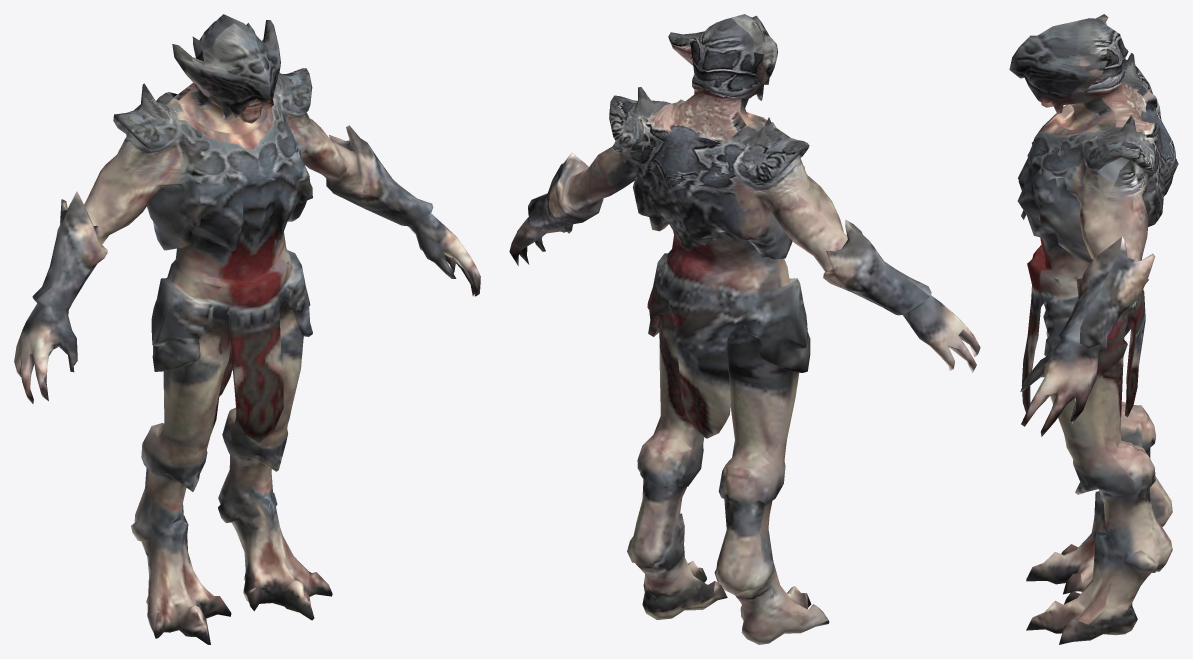
File: bloodknight-overview-v1.glb
3 renders of one model, left to right at view 1: azimuth 30°, elevation 25°; view 2: azimuth 150°, elevation 25°; view 3: azimuth 270°, elevation 25°, orthographic.
Parts seen in each view (by area): view 1: bloodknight; view 2: bloodknight; view 3: bloodknight.
Part boxes in pixels (x1=…): bloodknight: x1=14, y1=14, x2=480, y2=644; bloodknight: x1=509, y1=14, x2=980, y2=644; bloodknight: x1=1009, y1=14, x2=1178, y2=644.
Bounding box in the file's own units: 1.59 × 2 × 0.5181.
1 material, 1 textured.
